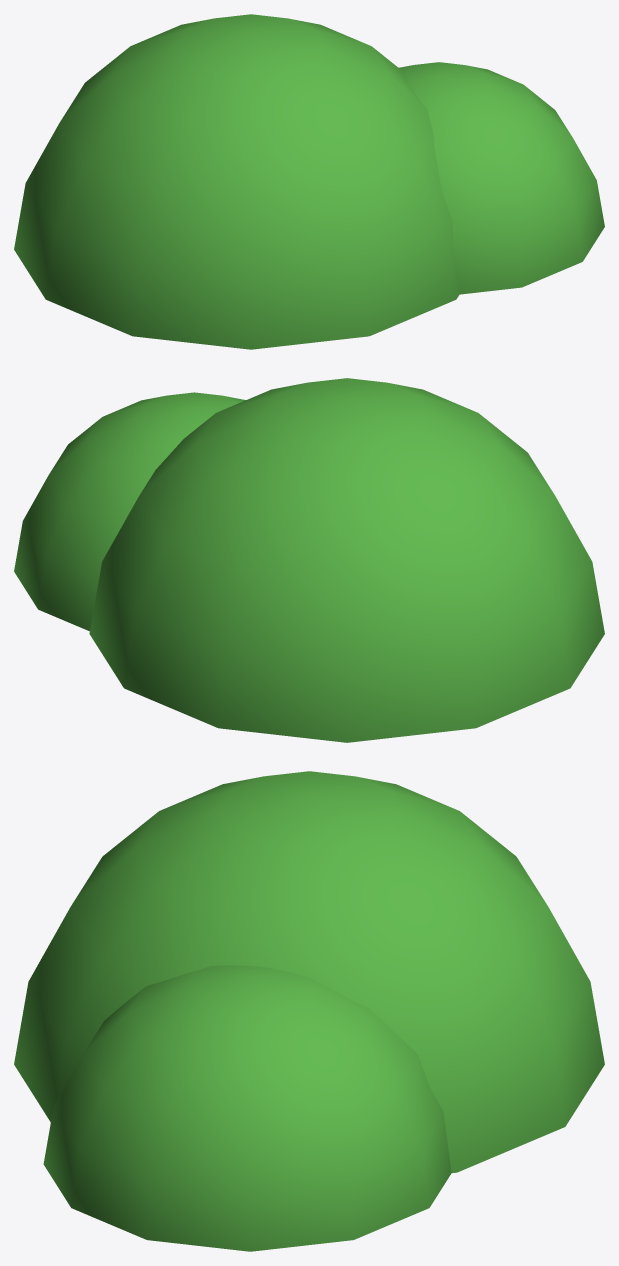
The model's file is bush.glb.
3 renders of one model, top to bottom at view 1: azimuth 30°, elevation 25°; view 2: azimuth 150°, elevation 25°; view 3: azimuth 270°, elevation 25°, orthographic. The views are drawn at different scales.
Visible parts, largest first — view 1: bush; view 2: bush; view 3: bush.
Boxes of the visible parts, box(x1,y1,x2,y2) form: bush: box(14, 14, 604, 349); bush: box(14, 378, 604, 742); bush: box(14, 771, 604, 1251).
Bounding box in the file's own units: 1.25 × 0.5 × 1.
